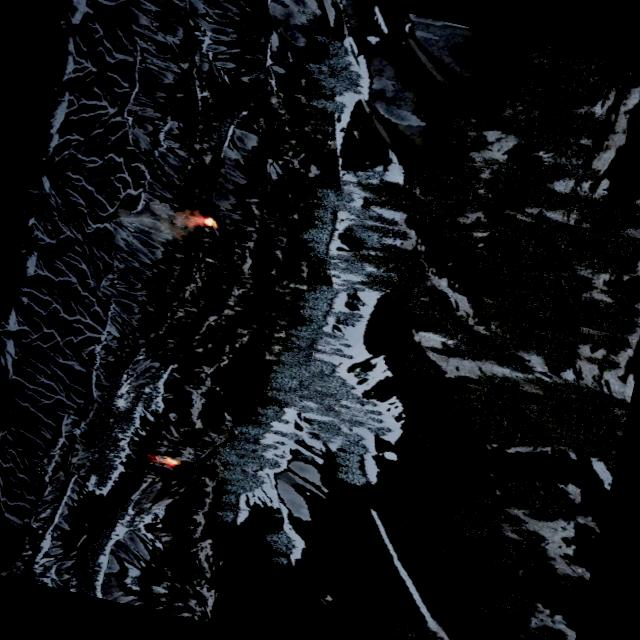fire: (195, 214, 218, 228), (158, 454, 180, 467)
smoke: (112, 196, 196, 248)
